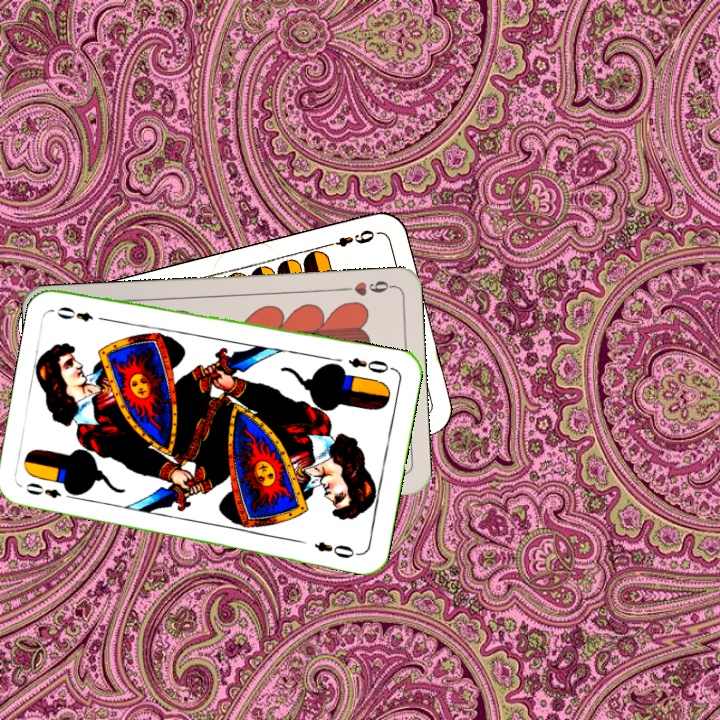E9: (322, 225, 377, 250)
EO: (21, 478, 78, 502), (344, 353, 396, 376)
H9: (336, 276, 395, 298)
